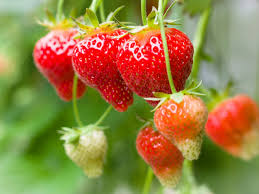Fresa: (114, 21, 199, 112), (70, 22, 139, 115), (31, 20, 91, 103)
